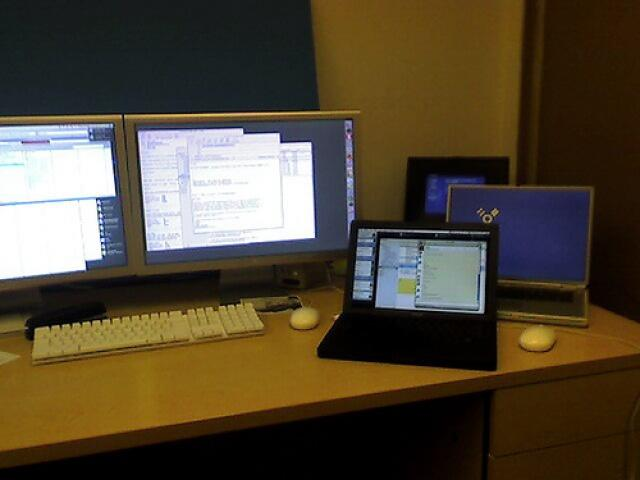AIO PC-Monitor-TV: (121, 108, 362, 280), (0, 111, 136, 291)
